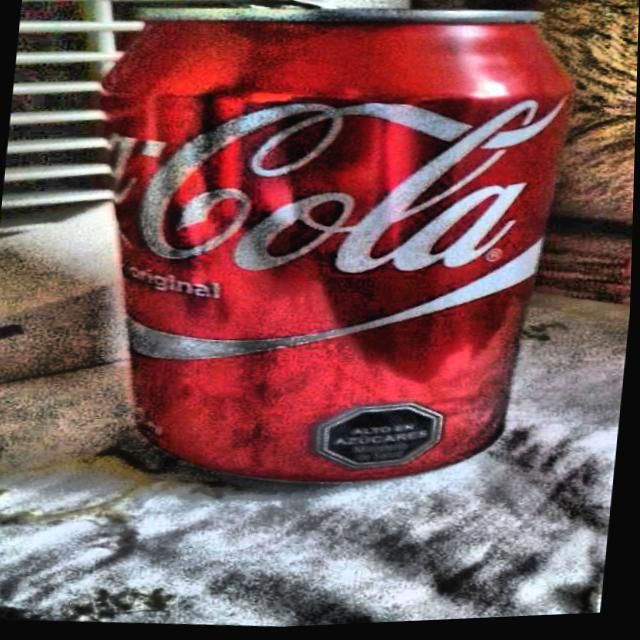Cans: (35, 0, 586, 528)
